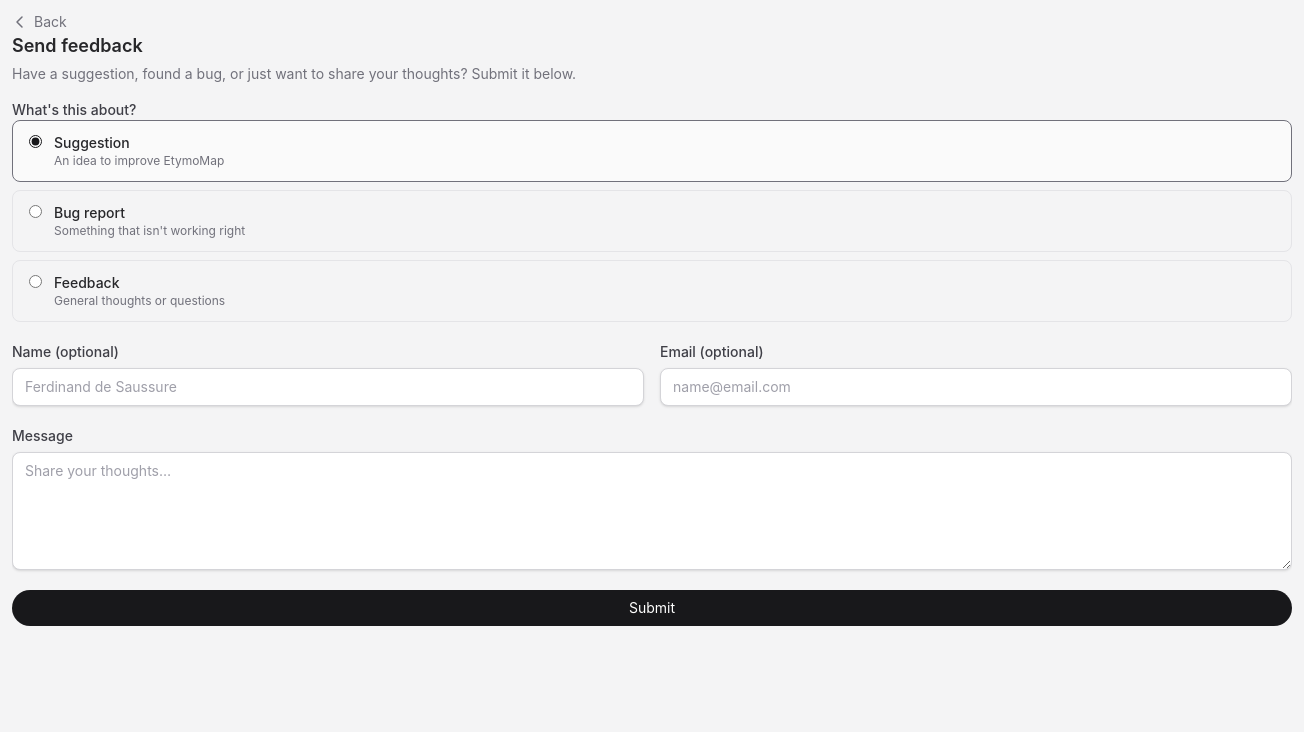
Test: FeedbackPage › shows the server error message on failure
Step 1. Type "hello world" into the text box with placeholder "Share your thoughts…" → point(652, 511), box [12,452,1292,570]
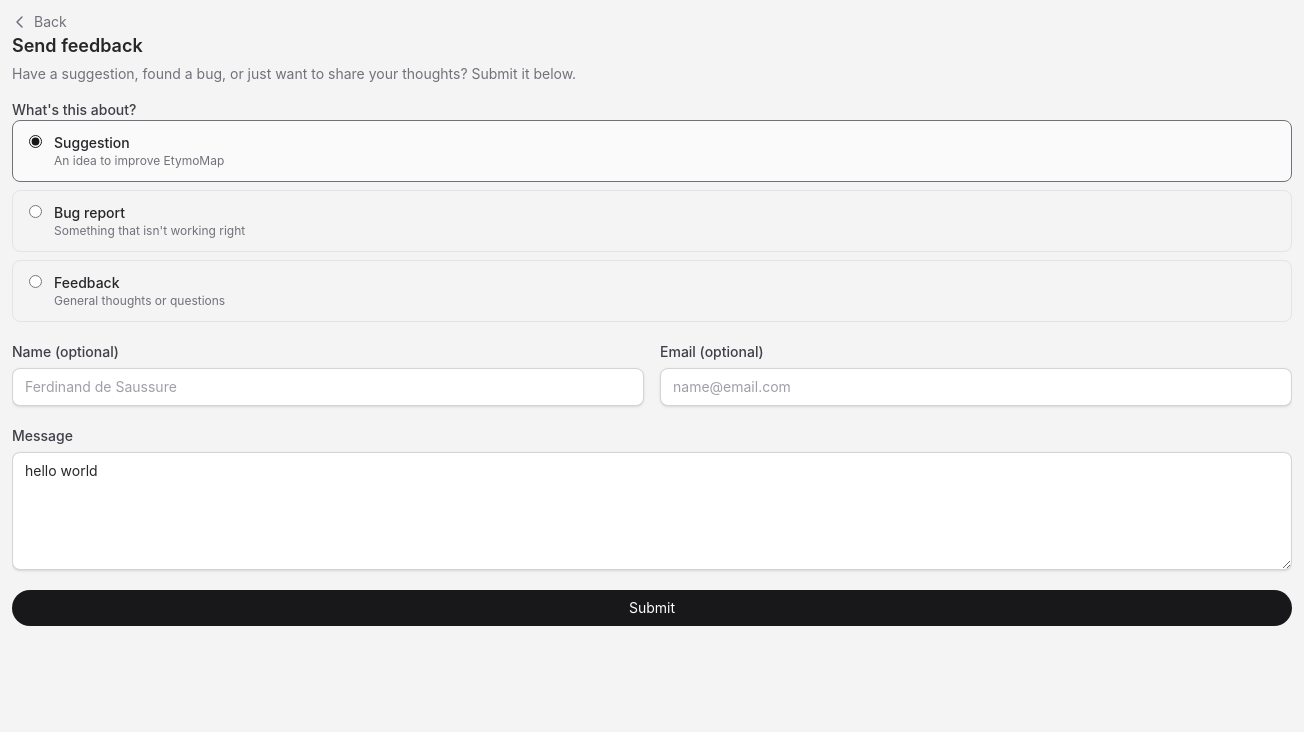
Step 2. Click the button "Submit" → point(652, 608), box [12,590,1292,626]
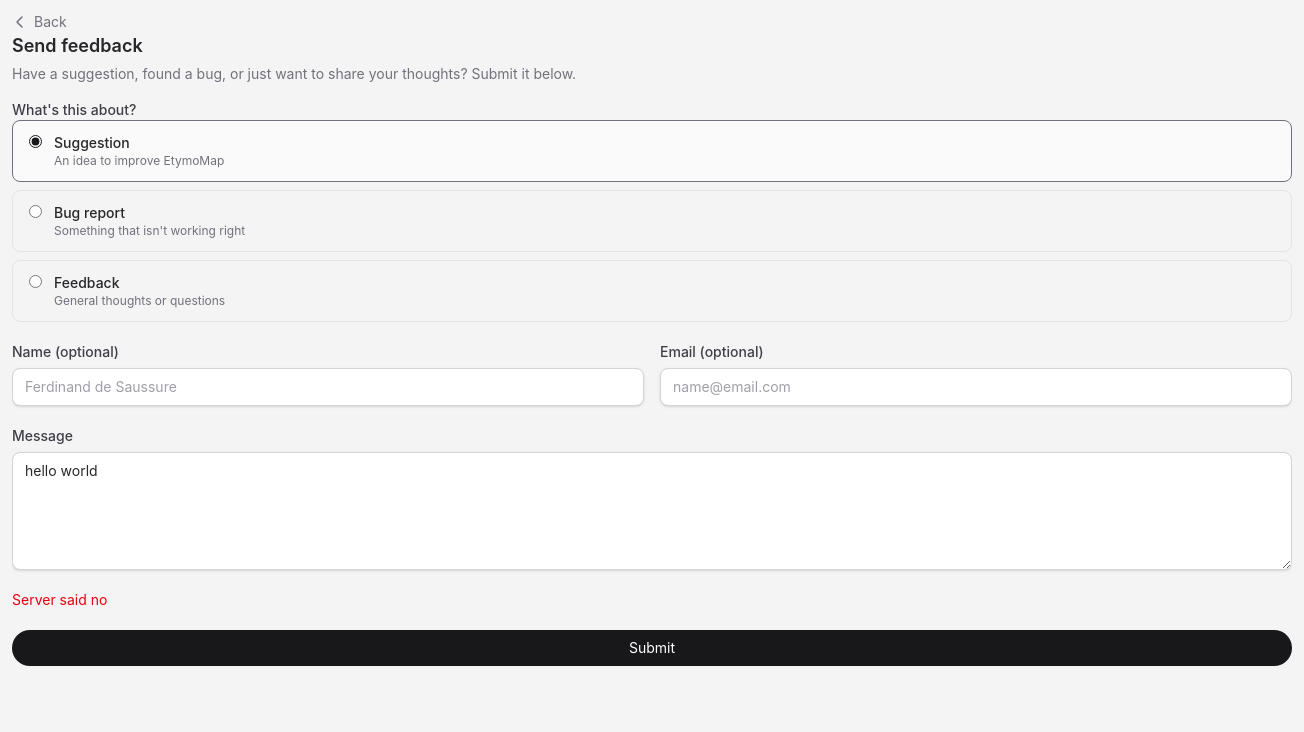
Check: the message reads "Server said no", box [12,591,107,608]
